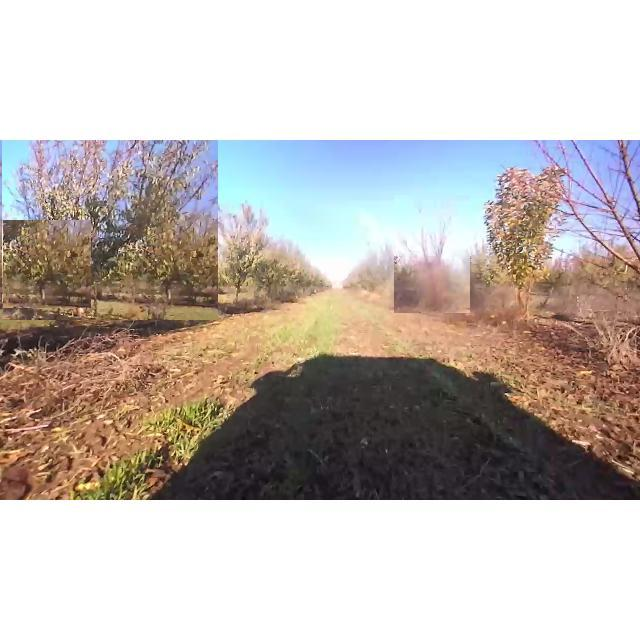direk: (2, 140, 218, 320), (488, 167, 574, 321), (394, 195, 470, 313), (3, 220, 91, 308), (204, 201, 276, 305)
